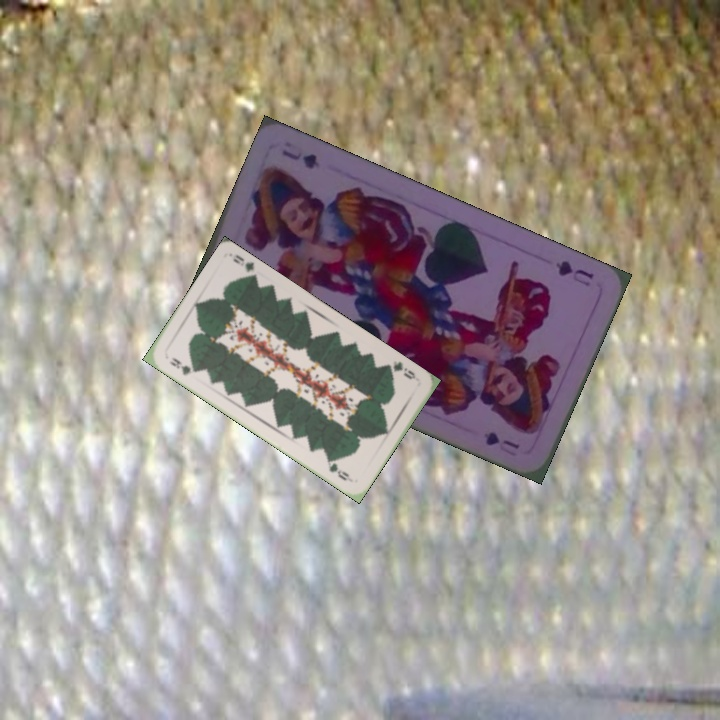G9: (165, 353, 200, 378), (383, 357, 418, 382)
GU: (551, 256, 597, 289)
